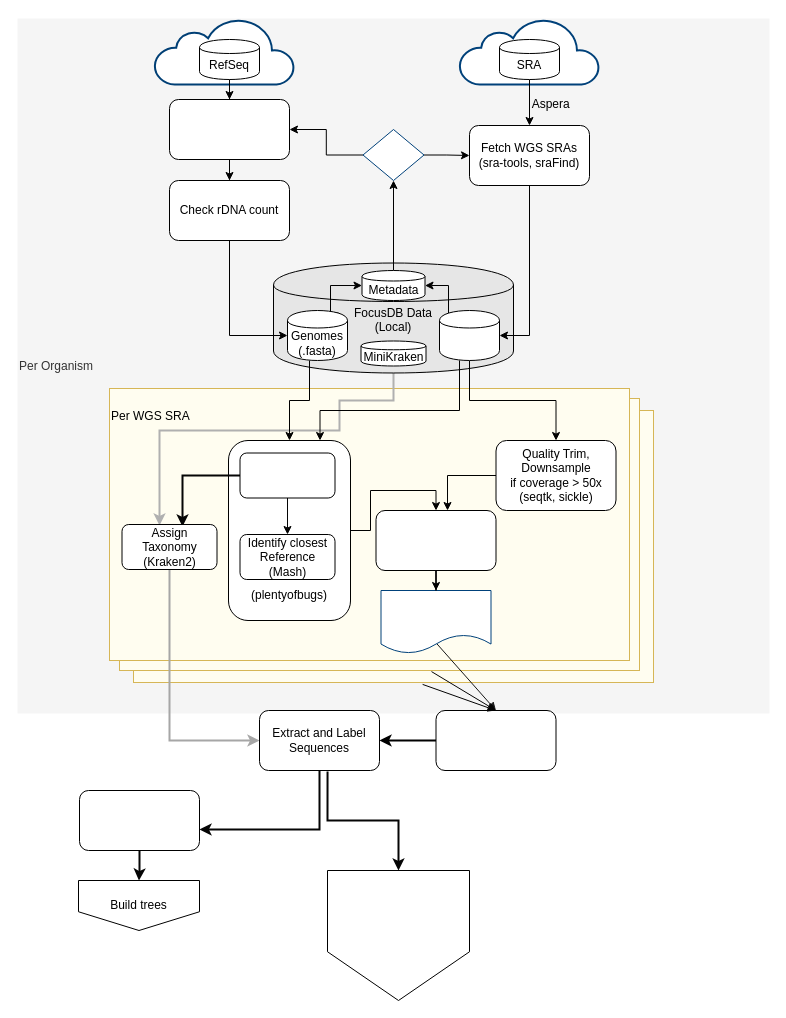
The diagram is 786 pixels wide and 1018 high, and some of its shapes have lost their labels. The shapes that lost their labels are listed below. From the top down, each one's box as (x1, y1, x2, y2) in pixels, then its label:
(168, 98, 290, 160): Fetch Reference Genomes
(362, 128, 424, 180): If missing
(438, 310, 500, 360): SRAs (.fastq)
(239, 452, 335, 498): Preliminary Assembly (SKESA)
(375, 510, 496, 570): riboSeed
(380, 590, 491, 654): Reassembled rDNA .fasta
(435, 710, 556, 770): Identify 16S regions (barrnap)
(78, 790, 200, 850): Align and Trim
(326, 870, 470, 1000): Combine with SILVA/ Greengenes/RDP Use with DADA2, etc
